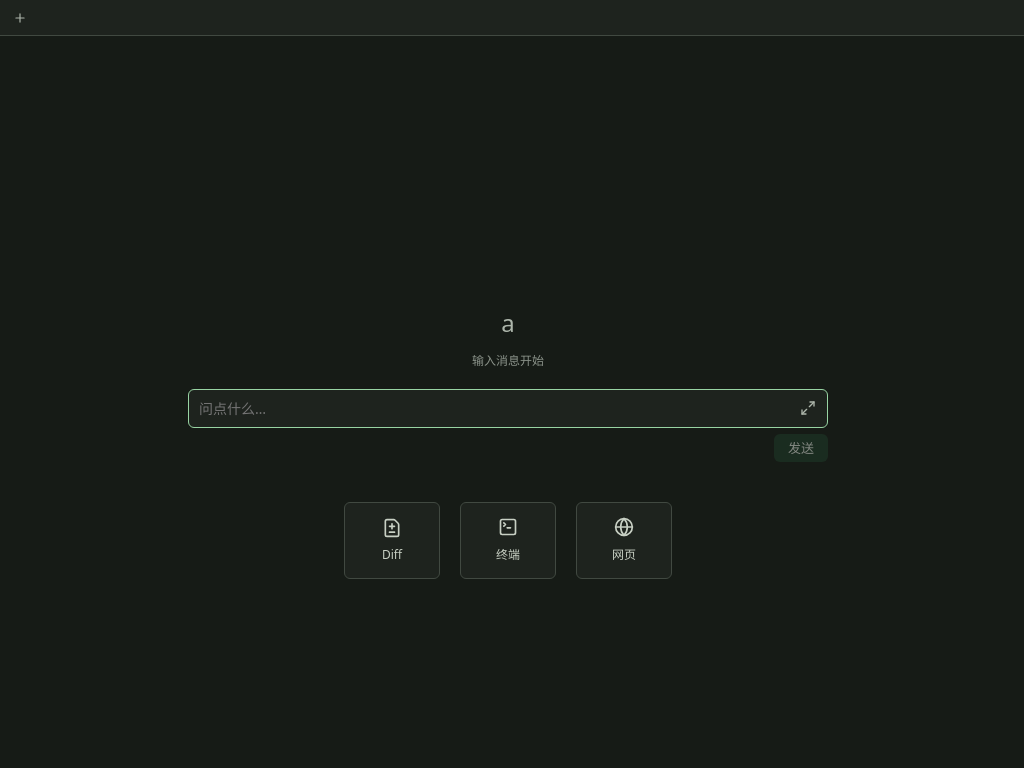
Test: 专注模式（design-focus-mode） › Esc 退出 → 面板卸载、抑制类移除、草稿保留
Type "保留我" into the text box with placeholder "问点什么…" at [495, 408], box [197,395,793,422]
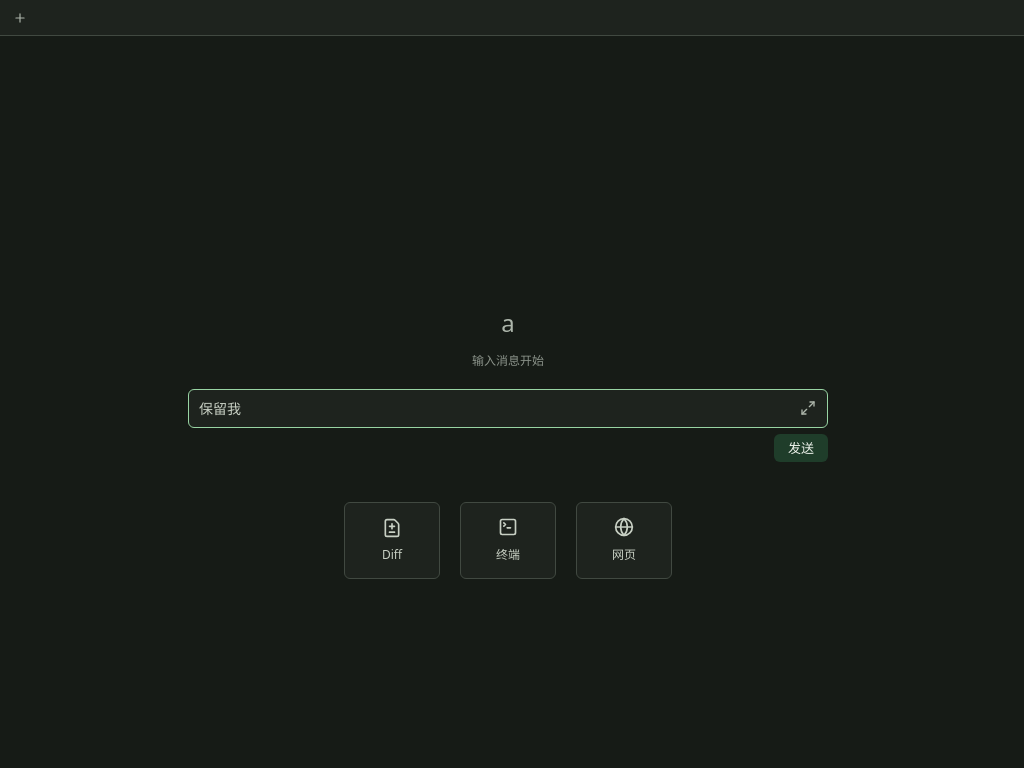
Click the button with class "focus-enter" at [808, 408], box [797,397,819,419]
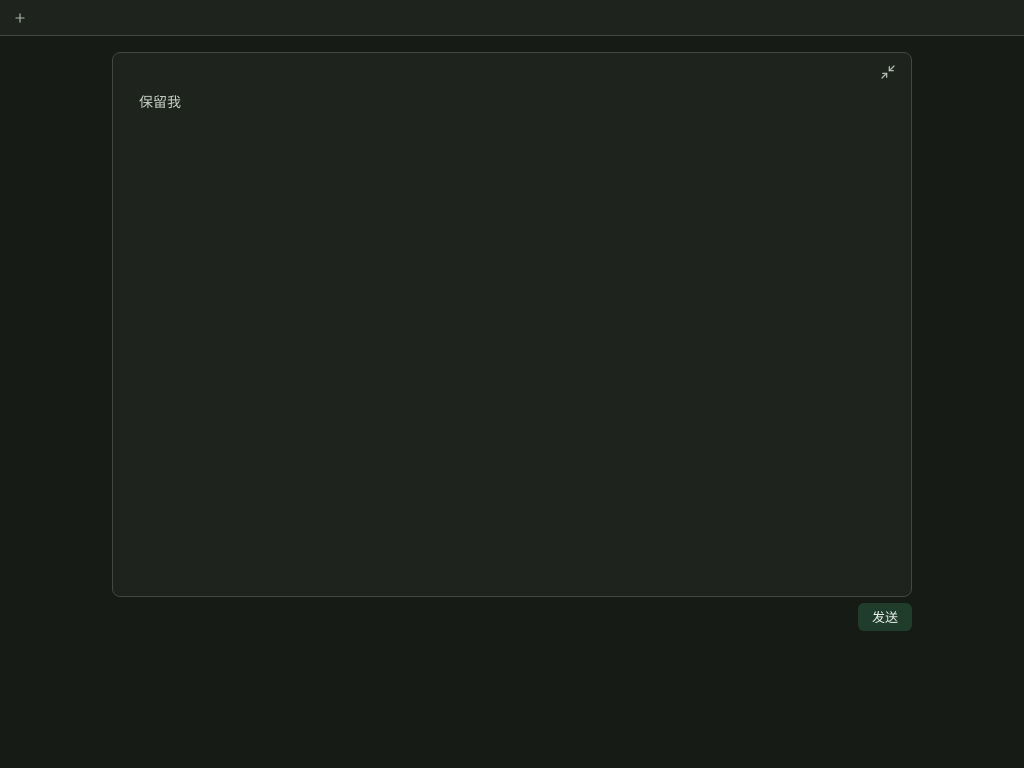
Press Escape in the field with class "cm-content", box [139,92,181,111]
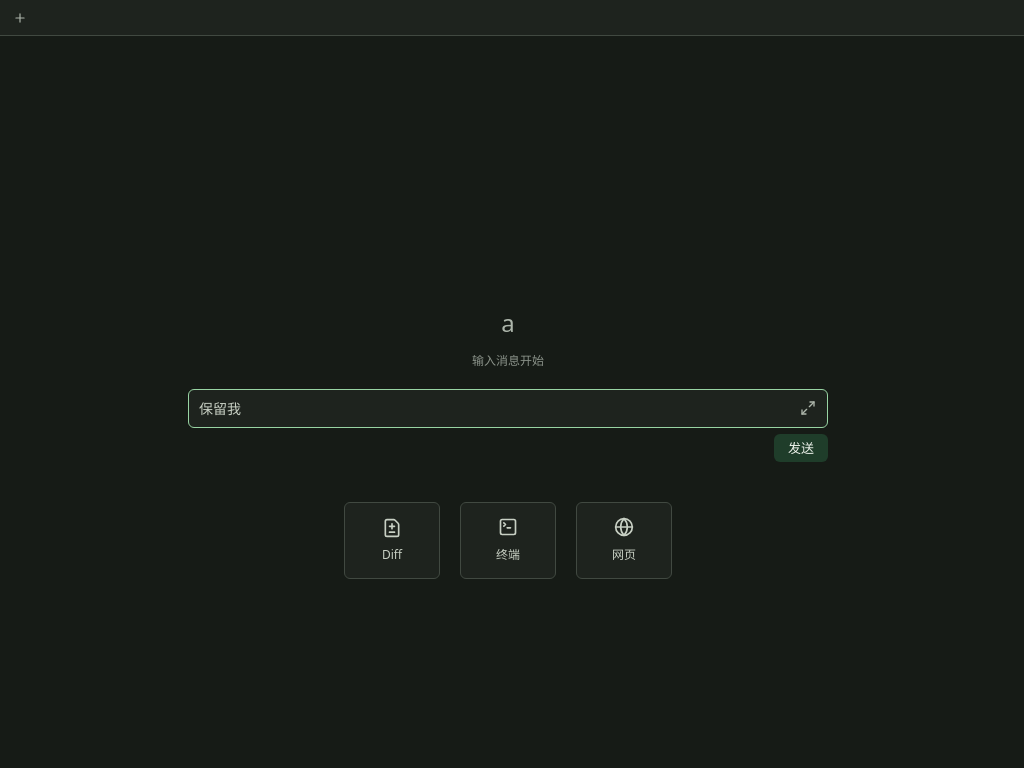
Expected: the element with class "focus-composer" is gone
